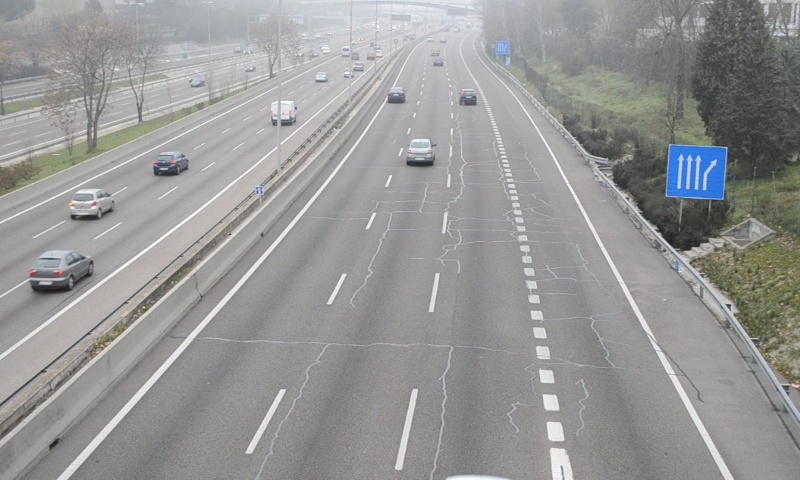car: (406, 138, 435, 164), (387, 87, 405, 104), (458, 88, 476, 104)
